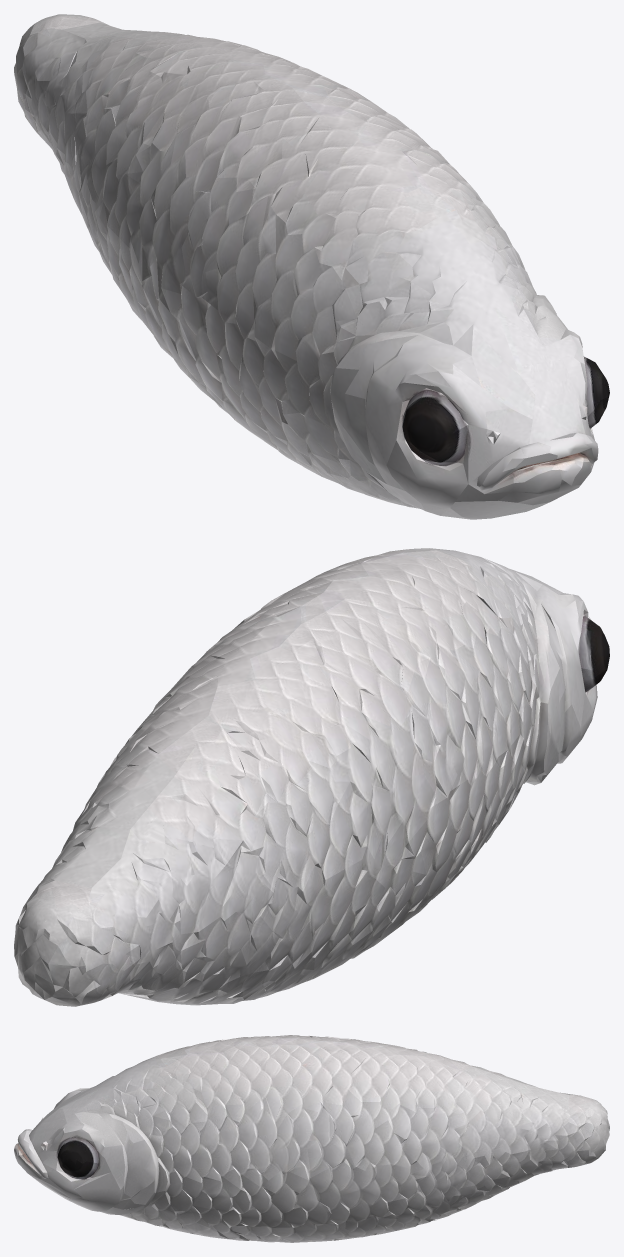
Rendered from body-female.glb.
3 renders of one model, top to bottom at view 1: azimuth 30°, elevation 25°; view 2: azimuth 150°, elevation 25°; view 3: azimuth 270°, elevation 25°, orthographic. The views are drawn at different scales.
Bounding box in the file's own units: 0.0765 × 0.1 × 0.2766.
Materials: 1 (1 with a texture image).
